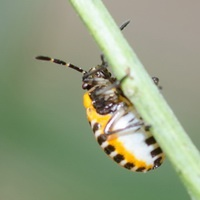insect: (36, 55, 164, 171)
